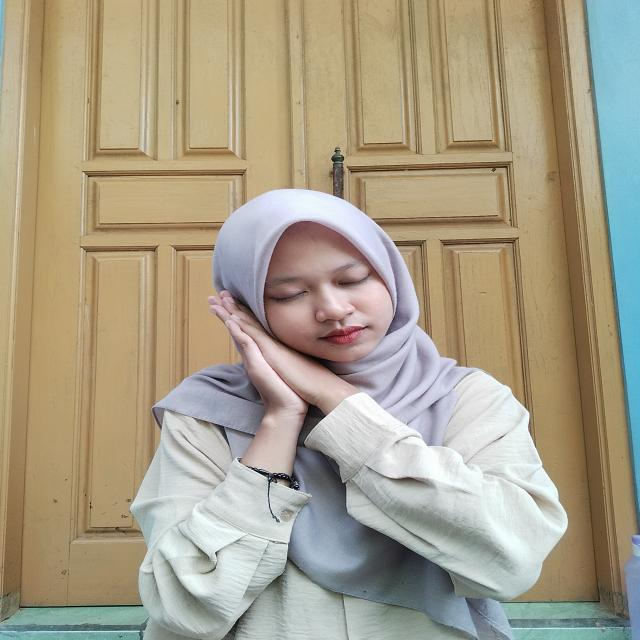tidur: (186, 281, 382, 468)
